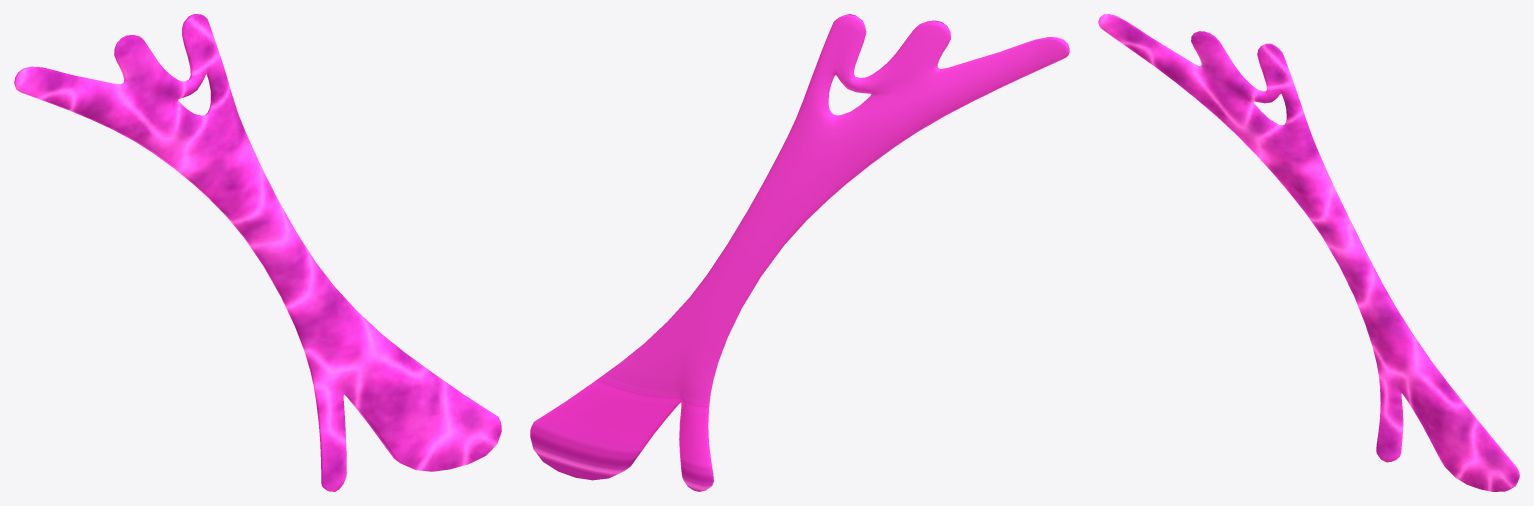
The model's file is sky_decor_energy_chaos_v35.glb.
3 renders of one model, left to right at view 1: azimuth 30°, elevation 25°; view 2: azimuth 150°, elevation 25°; view 3: azimuth 330°, elevation 25°, orthographic. The views are drawn at different scales.
Visible parts, largest first — view 1: caos_drs_chaosenergy_01c; view 2: caos_drs_chaosenergy_01c; view 3: caos_drs_chaosenergy_01c.
Part boxes in pixels (<box>): caos_drs_chaosenergy_01c: <box>14,14,501,491</box>; caos_drs_chaosenergy_01c: <box>530,14,1069,491</box>; caos_drs_chaosenergy_01c: <box>1098,14,1519,491</box>.
Bounding box in the file's own units: 5.93 × 5.85 × 0.841.
1 material, 1 textured.
